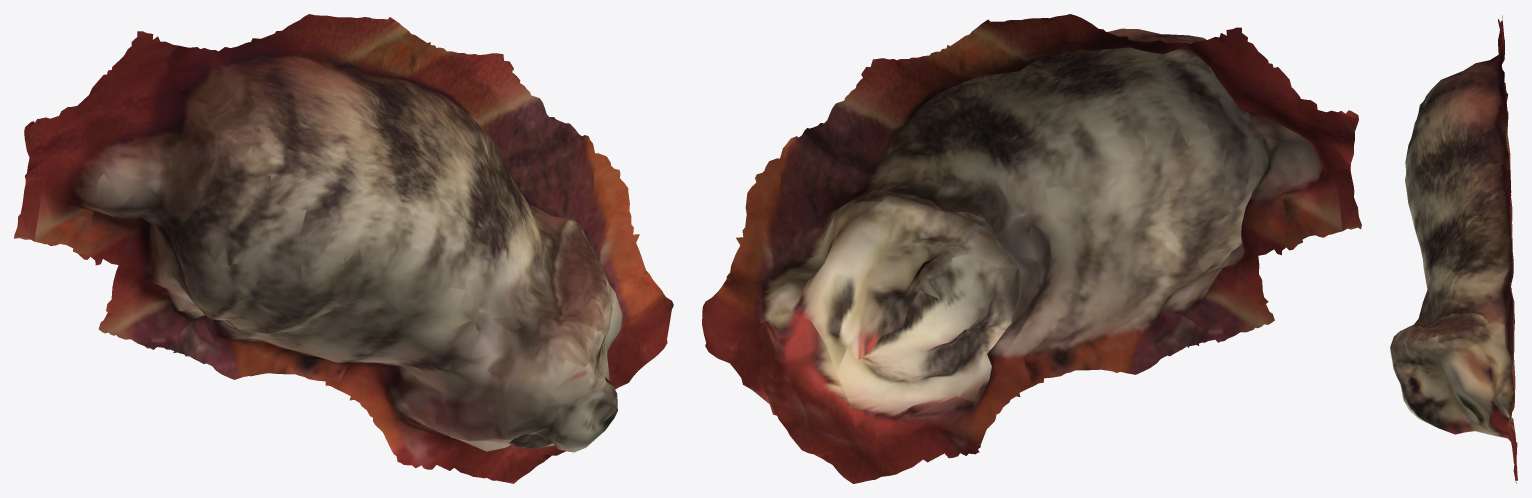
The model's file is lea.obj.
The picture shows the model from 3 angles, left to right: view 1: azimuth 30°, elevation 25°; view 2: azimuth 150°, elevation 25°; view 3: azimuth 270°, elevation 25°; orthographic projection. The views are drawn at different scales.
Parts seen in each view (by area): view 1: mmGroup0; view 2: mmGroup0; view 3: mmGroup0.
Part boxes in pixels (x1,y1,x2,y2): mmGroup0: (14,14,673,483); mmGroup0: (702,14,1361,483); mmGroup0: (1390,15,1517,483).
Bounding box in the file's own units: 18.22 × 14.47 × 4.82.
